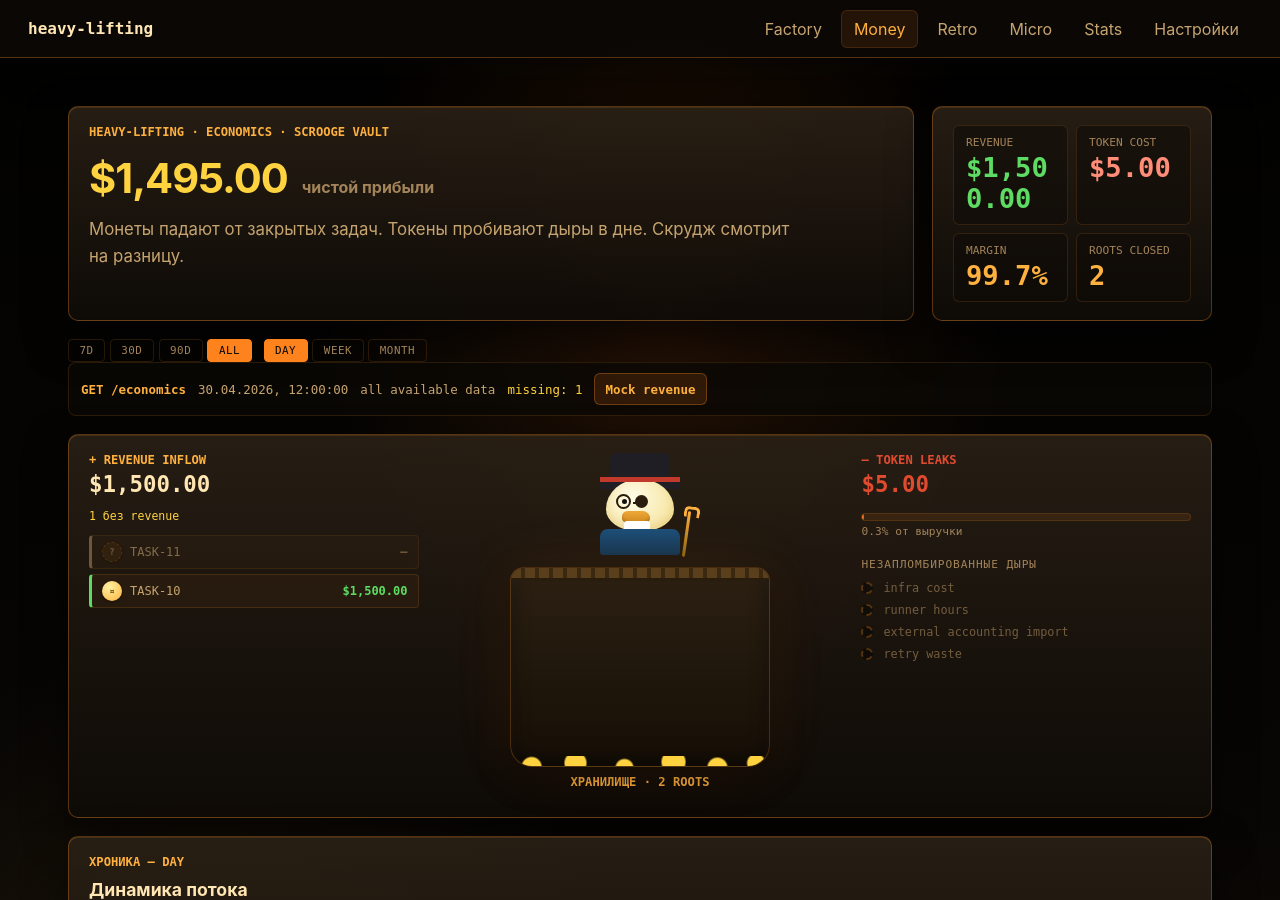
Test: App › generates mock revenue through the frontend api path and reloads economics
This screenshot has width=1280, height=900.
Check: the text "GET /economics" is shown, box [81,382,186,396]
Click the button "Mock revenue".
click(651, 389)  # box [594,373,707,405]
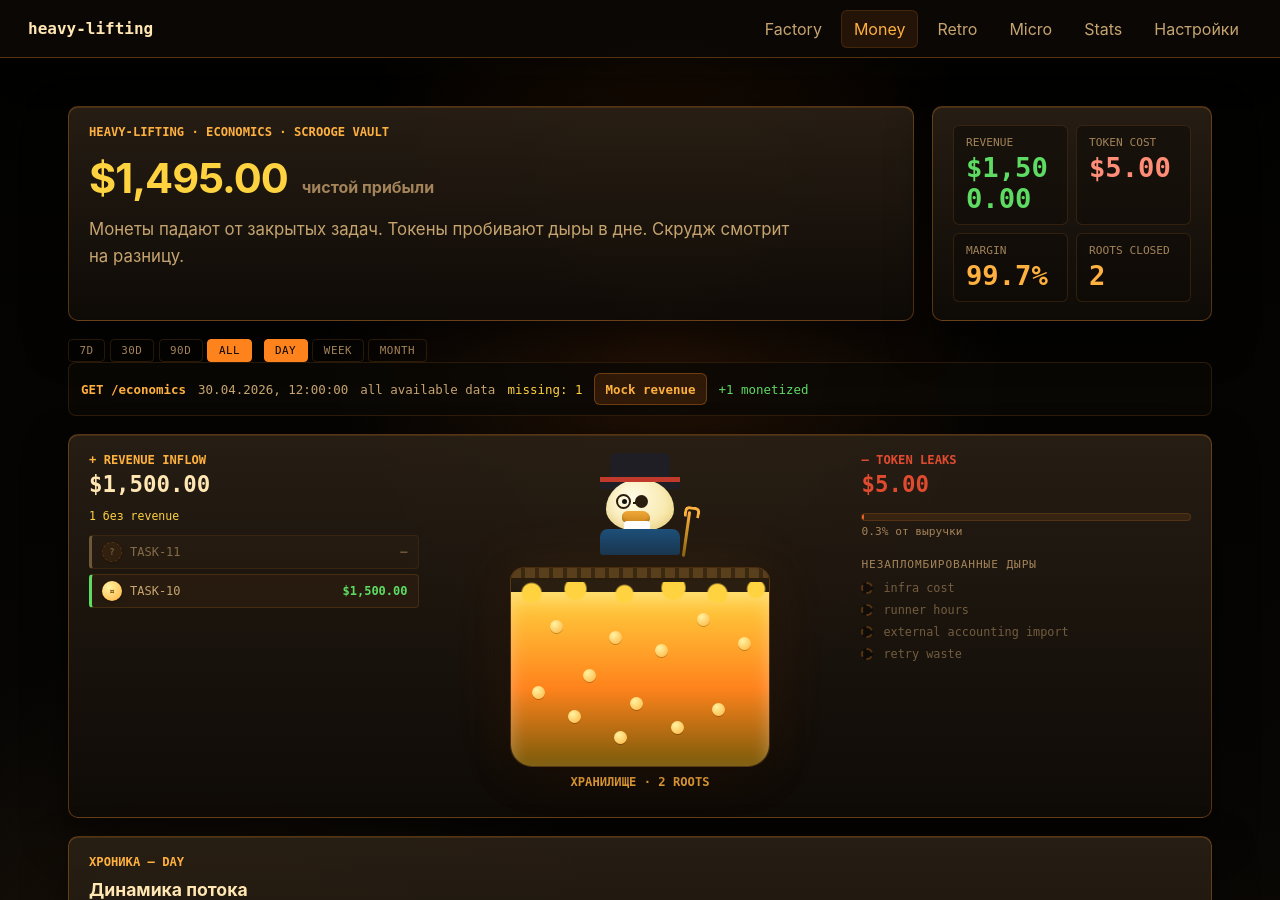
Check: the text "+1 monetized" is shown, box [718,382,809,396]
